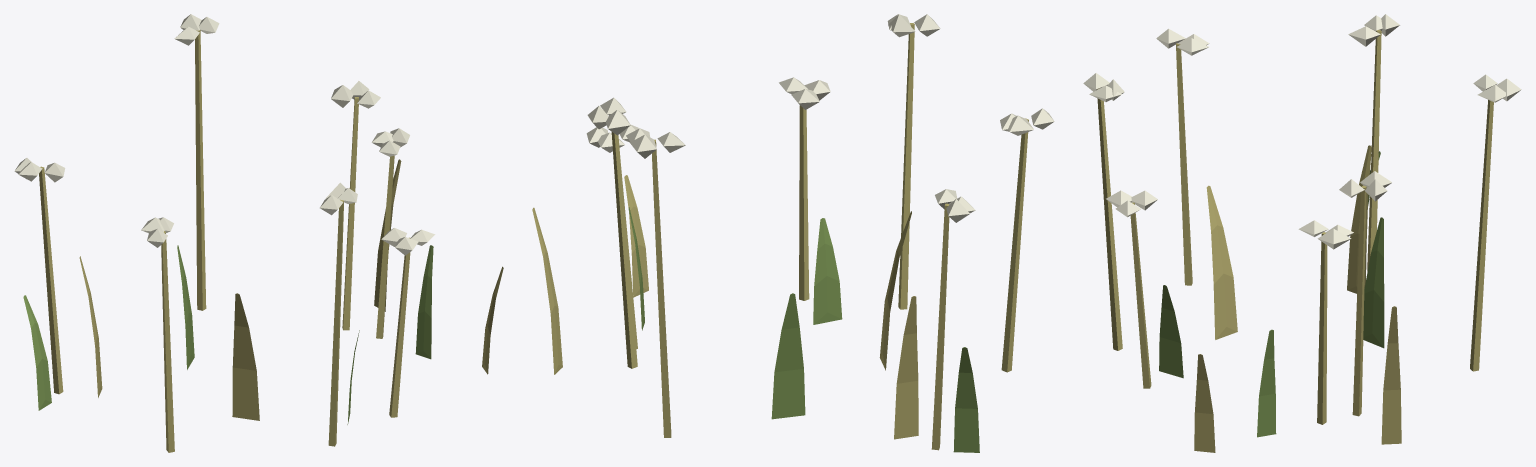
File: flowers_bog_c.glb
The picture shows the model from 3 angles, left to right: view 1: azimuth 30°, elevation 25°; view 2: azimuth 150°, elevation 25°; view 3: azimuth 270°, elevation 25°; orthographic projection. The views are drawn at different scales.
Parts seen in each view (by area): view 1: FlowersBogC; view 2: FlowersBogC; view 3: FlowersBogC.
Part boxes in pixels (x1,y1,x2,y2): FlowersBogC: (14, 14, 503, 452); FlowersBogC: (532, 14, 1054, 452); FlowersBogC: (1083, 14, 1521, 452).
Size of the model in its own units: 0.7237 by 0.4953 by 0.6602.
